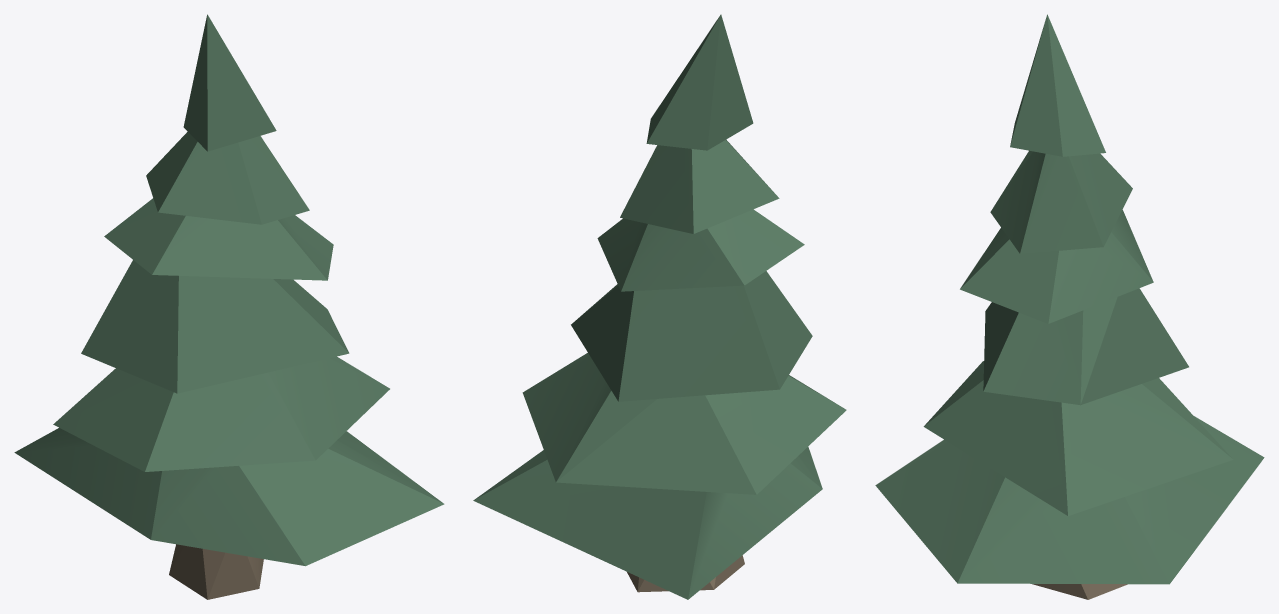
File: Tree_Pine_06.fbx
3 views of the same model, side by side, from view 1: azimuth 30°, elevation 25°; view 2: azimuth 150°, elevation 25°; view 3: azimuth 270°, elevation 25° (orthographic). The views are drawn at different scales.
Parts seen in each view (by area): view 1: Tree_Pine_06; view 2: Tree_Pine_06; view 3: Tree_Pine_06.
Boxes of the visible parts, box(x1,y1,x2,y2) form: Tree_Pine_06: box(14, 14, 444, 599); Tree_Pine_06: box(473, 14, 846, 599); Tree_Pine_06: box(875, 14, 1264, 599).
Size of the model in its own units: 54.16 by 102 by 65.75.
